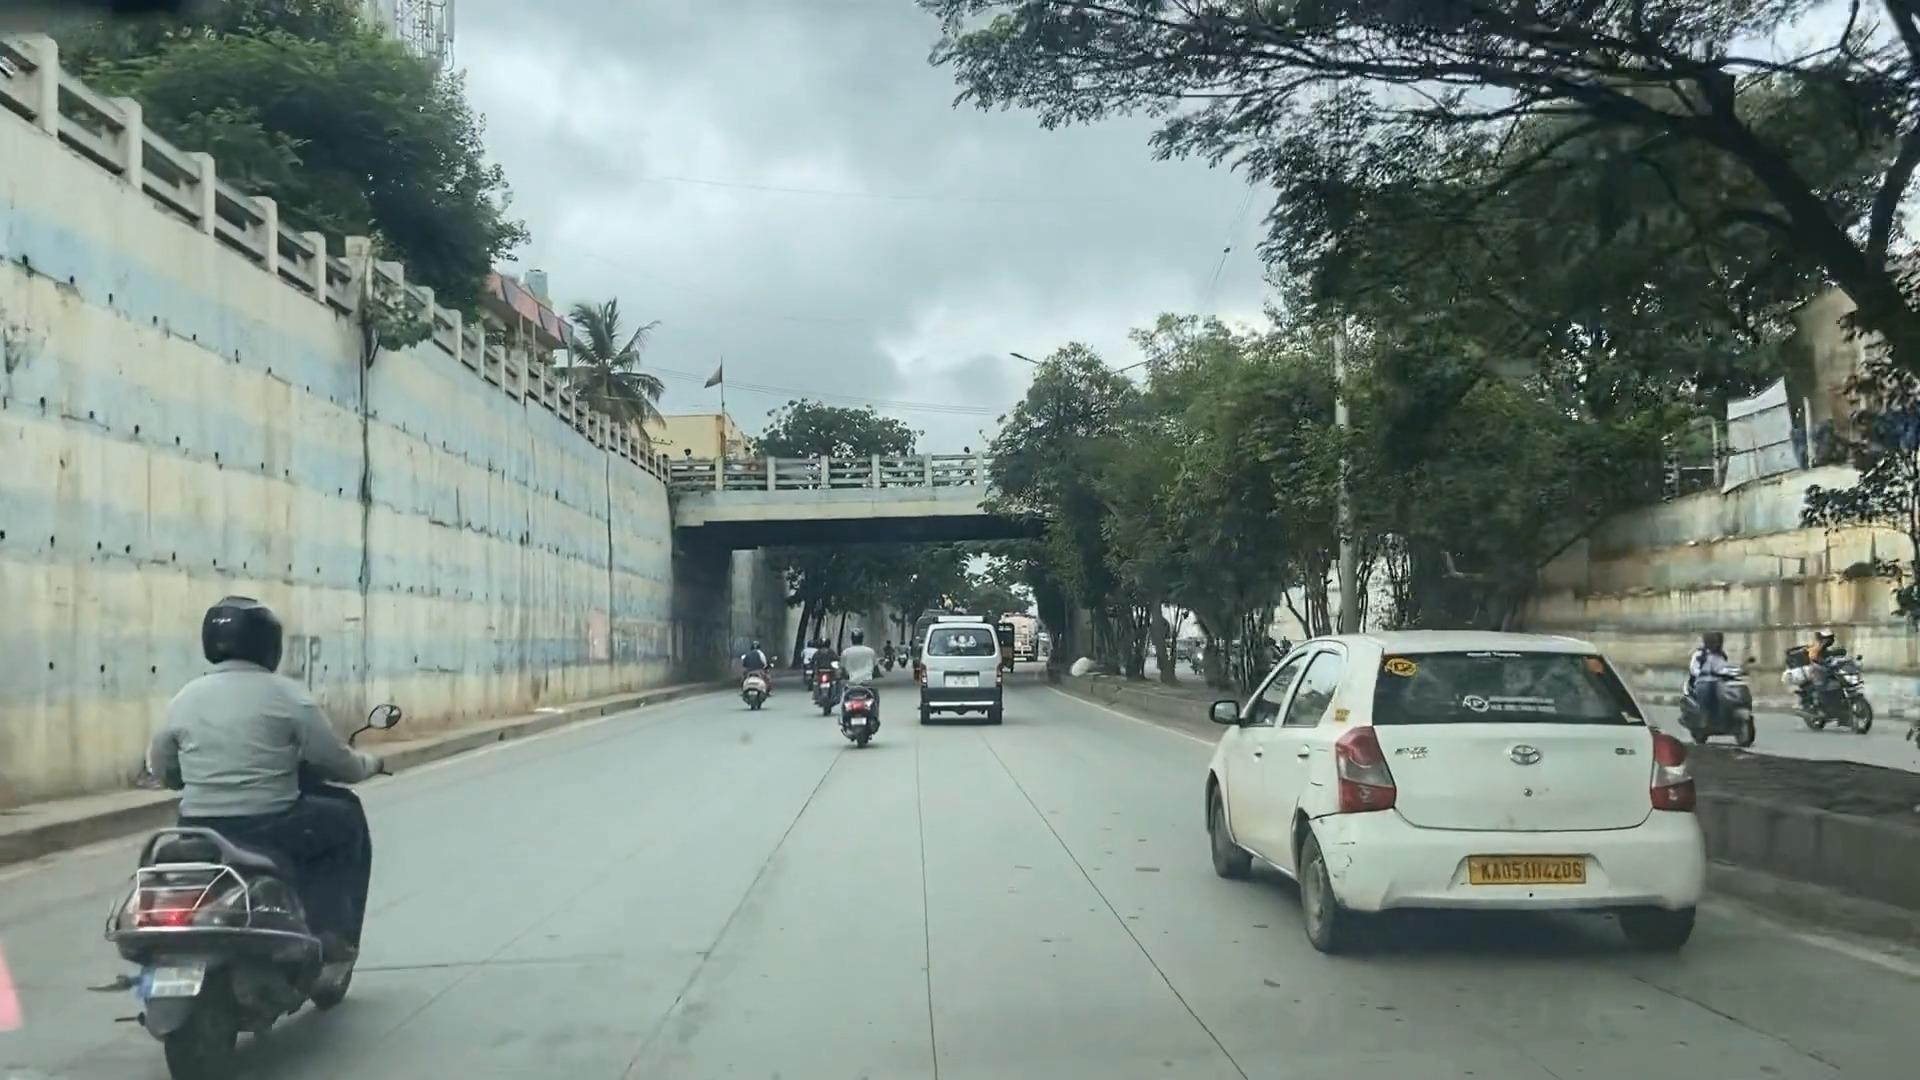LMV: (1218, 588, 1733, 986), (158, 603, 389, 1080)
